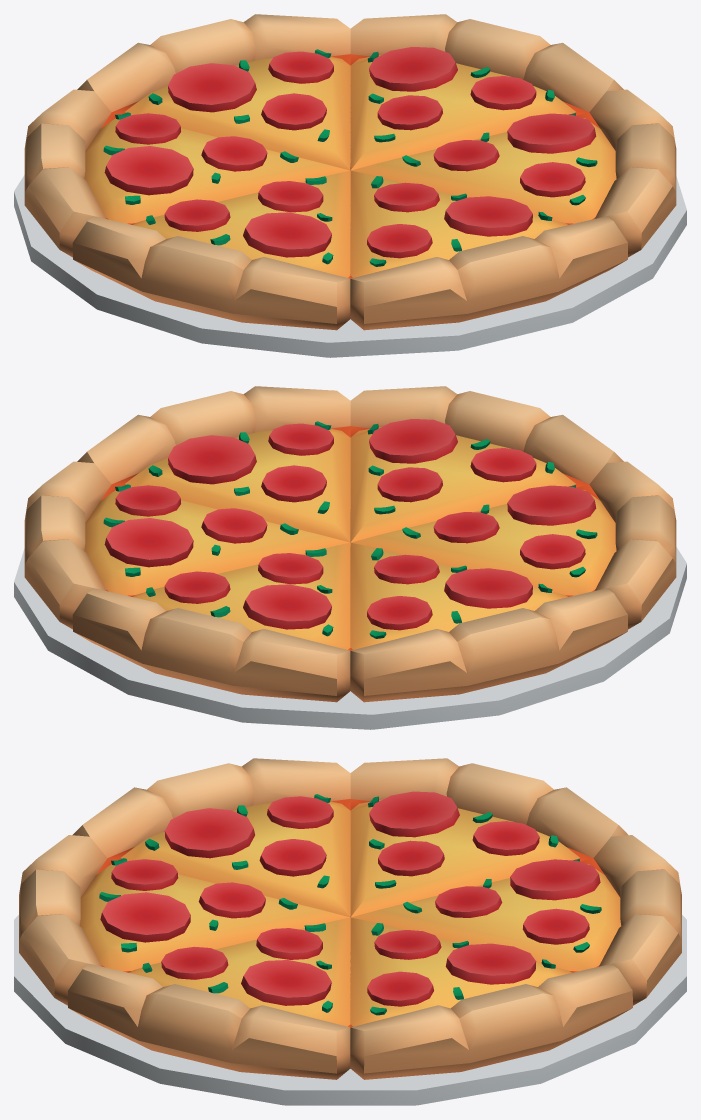
The model's file is food_pizza_pepperoni_plated_slices.glb.
The picture shows the model from 3 angles, top to bottom: view 1: azimuth 30°, elevation 25°; view 2: azimuth 150°, elevation 25°; view 3: azimuth 270°, elevation 25°; orthographic projection.
Parts seen in each view (by area): view 1: food_pizza_pepperoni_plated_slices.004, food_pizza_pepperoni_plated_slices.003, food_pizza_pepperoni_plated_slices.001, food_pizza_pepperoni_plated_slices.006, food_pizza_pepperoni_plated_slices.005, food_pizza_pepperoni_plated_slices.002, food_pizza_pepperoni_plated_slices; view 2: food_pizza_pepperoni_plated_slices.006, food_pizza_pepperoni_plated_slices.005, food_pizza_pepperoni_plated_slices.003, food_pizza_pepperoni_plated_slices.002, food_pizza_pepperoni_plated_slices.001, food_pizza_pepperoni_plated_slices.004, food_pizza_pepperoni_plated_slices; view 3: food_pizza_pepperoni_plated_slices.002, food_pizza_pepperoni_plated_slices.001, food_pizza_pepperoni_plated_slices.005, food_pizza_pepperoni_plated_slices.004, food_pizza_pepperoni_plated_slices.003, food_pizza_pepperoni_plated_slices.006, food_pizza_pepperoni_plated_slices.
Part boxes in pixels (<box>): food_pizza_pepperoni_plated_slices.004: <box>72,170,350,330</box>; food_pizza_pepperoni_plated_slices.003: <box>350,171,627,330</box>; food_pizza_pepperoni_plated_slices.001: <box>350,14,623,170</box>; food_pizza_pepperoni_plated_slices.006: <box>77,14,350,170</box>; food_pizza_pepperoni_plated_slices.005: <box>24,89,349,257</box>; food_pizza_pepperoni_plated_slices.002: <box>351,89,676,257</box>; food_pizza_pepperoni_plated_slices: <box>14,175,686,357</box>; food_pizza_pepperoni_plated_slices.006: <box>72,542,350,702</box>; food_pizza_pepperoni_plated_slices.005: <box>350,543,627,702</box>; food_pizza_pepperoni_plated_slices.003: <box>350,386,623,542</box>; food_pizza_pepperoni_plated_slices.002: <box>77,386,350,542</box>; food_pizza_pepperoni_plated_slices.001: <box>24,461,349,629</box>; food_pizza_pepperoni_plated_slices.004: <box>351,461,676,629</box>; food_pizza_pepperoni_plated_slices: <box>14,547,686,729</box>; food_pizza_pepperoni_plated_slices.002: <box>68,917,350,1079</box>; food_pizza_pepperoni_plated_slices.001: <box>350,917,632,1079</box>; food_pizza_pepperoni_plated_slices.005: <box>350,758,628,917</box>; food_pizza_pepperoni_plated_slices.004: <box>72,758,350,917</box>; food_pizza_pepperoni_plated_slices.003: <box>19,835,349,1005</box>; food_pizza_pepperoni_plated_slices.006: <box>351,835,681,1005</box>; food_pizza_pepperoni_plated_slices: <box>14,915,686,1105</box>.
Size of the model in its own units: 2 by 0.3 by 2.
1 material, 1 textured.
